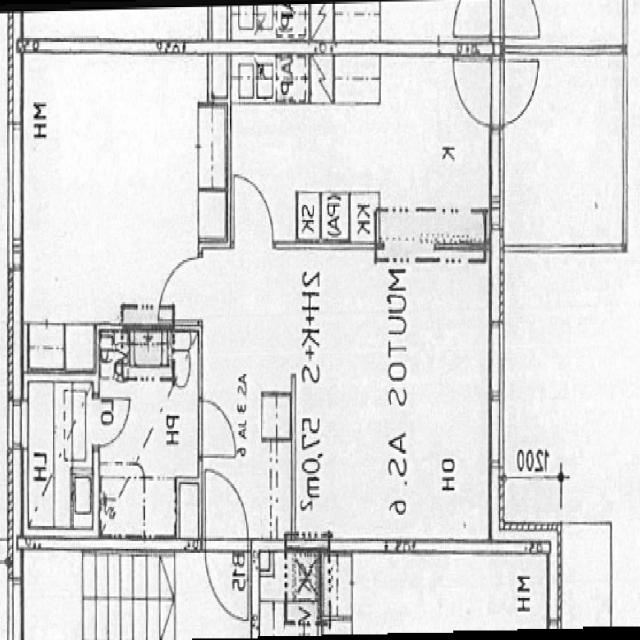door: (207, 540, 250, 625), (207, 469, 250, 554), (492, 63, 544, 128), (452, 63, 504, 128), (235, 178, 273, 249), (162, 257, 204, 321), (200, 401, 238, 457), (95, 397, 130, 446)
